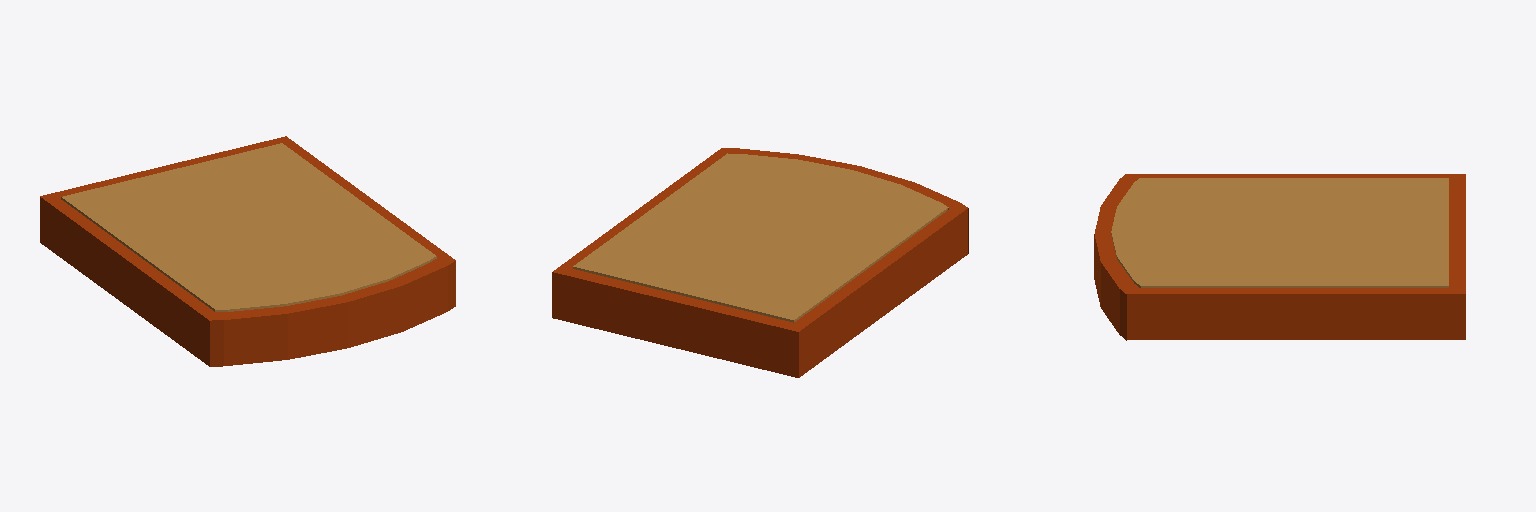
Rendered from saved.obj.
3 renders of one model, left to right at view 1: azimuth 30°, elevation 25°; view 2: azimuth 150°, elevation 25°; view 3: azimuth 270°, elevation 25°, orthographic.
Size of the model in its own units: 3.37 by 0.6313 by 4.37.